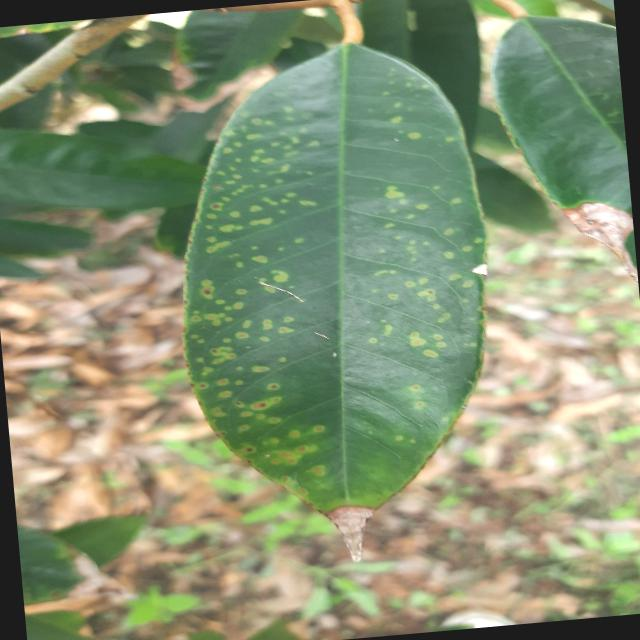Leaf Spot: (150, 19, 522, 582)
